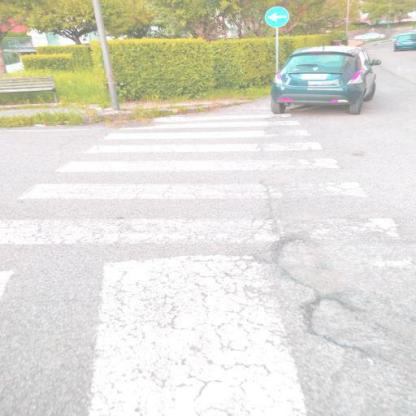crosswalk: (13, 158, 371, 200), (97, 119, 313, 142)
